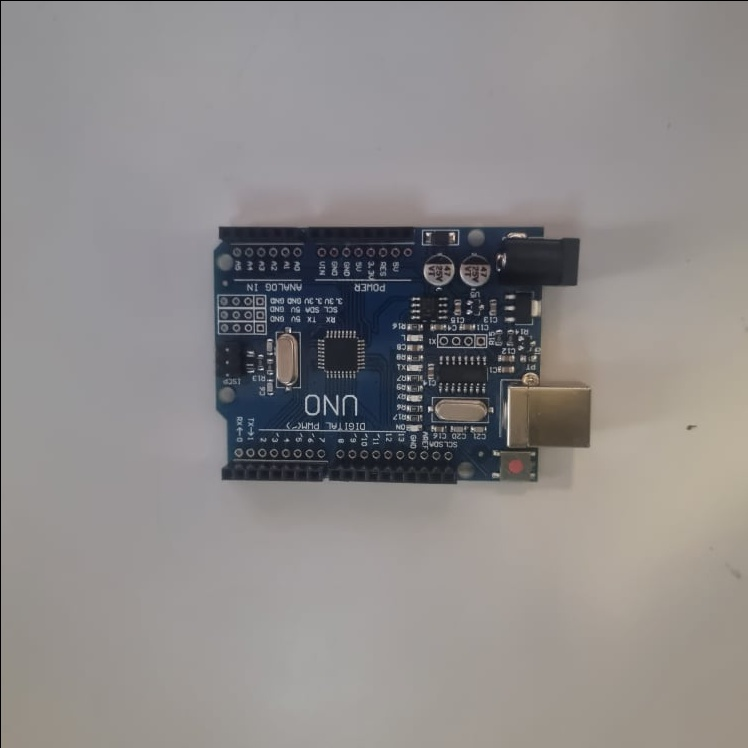UNO R3: (208, 221, 590, 486)
